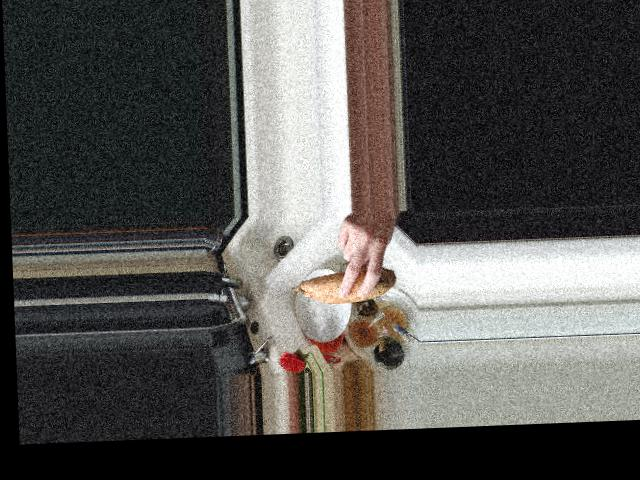sweet_potato: (286, 261, 400, 304)
